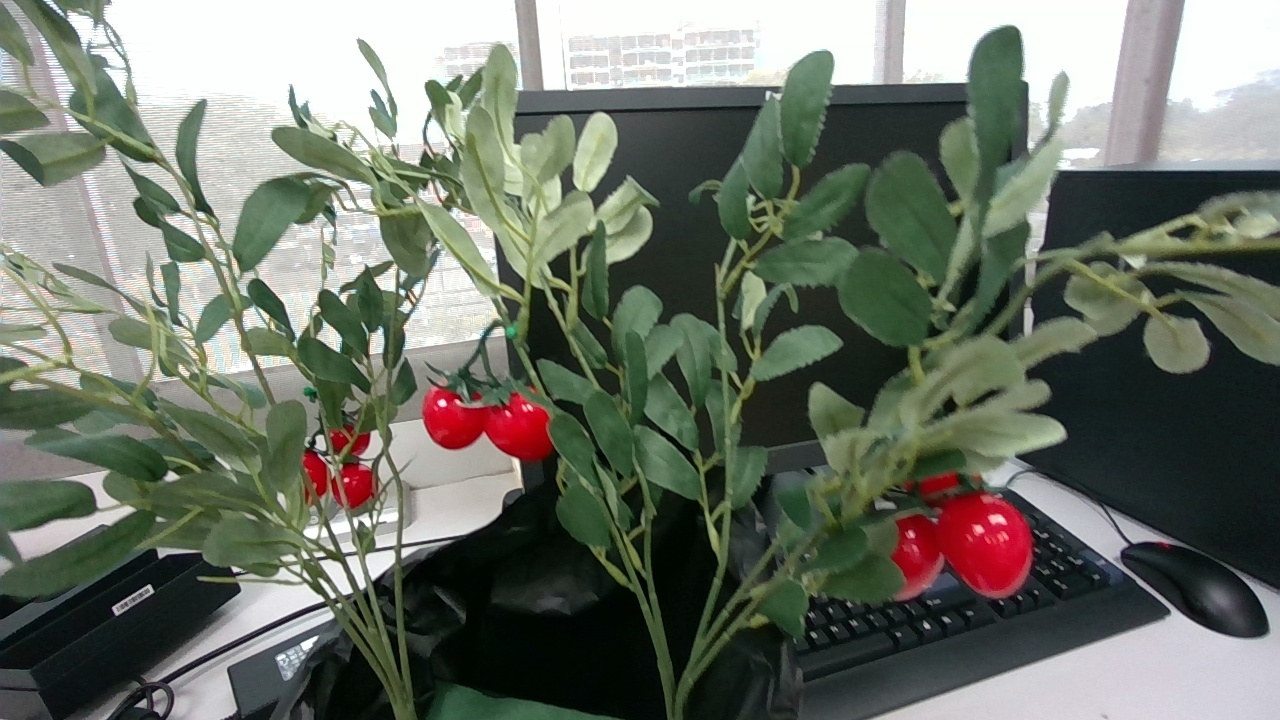peduncle: (479, 320, 499, 344)
strawberry: (939, 492, 1035, 598), (484, 392, 554, 460), (892, 515, 946, 602), (422, 386, 487, 449), (338, 463, 374, 509), (302, 450, 327, 496), (919, 471, 960, 496), (330, 478, 343, 503)
